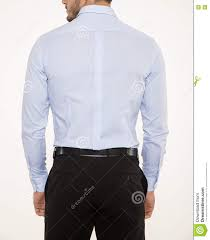F_belt: (51, 144, 144, 161)
F_dress pants: (37, 158, 151, 238)
F_shirt: (20, 2, 178, 202)
